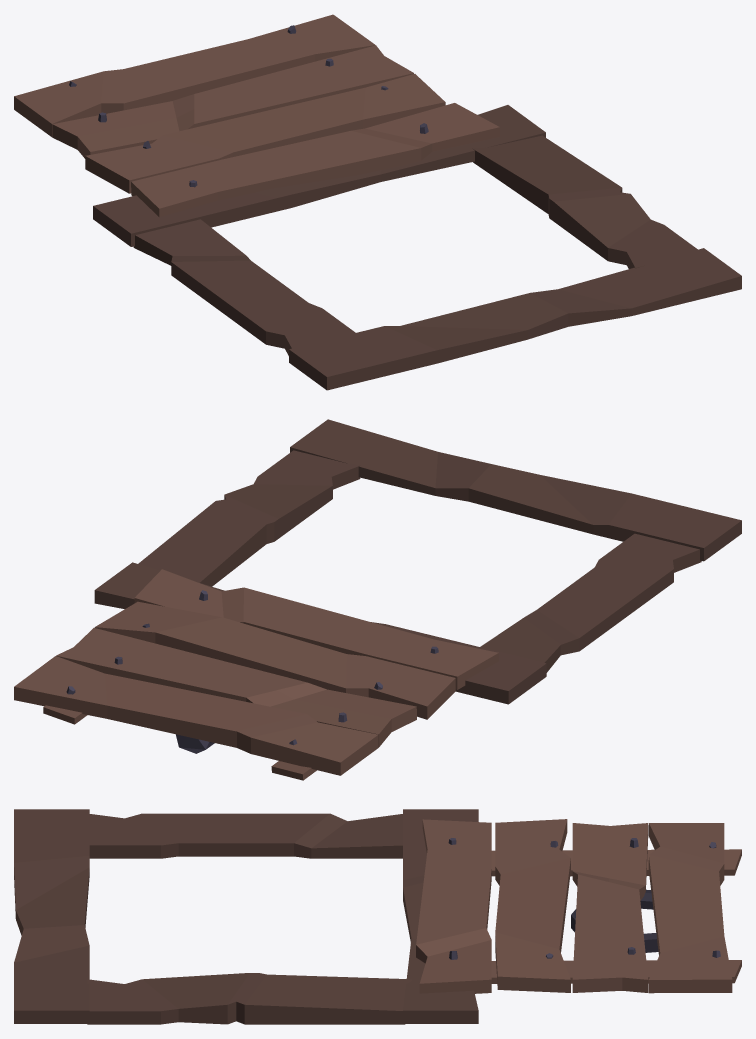
The model's file is Trapdoor_open.glb.
3 views of the same model, one above another, from view 1: azimuth 30°, elevation 25°; view 2: azimuth 150°, elevation 25°; view 3: azimuth 270°, elevation 25° (orthographic).
Parts seen in each view (by area): view 1: Trapdoor_open; view 2: Trapdoor_open; view 3: Trapdoor_open.
Boxes of the visible parts, x1,y1,x2,y2 form: Trapdoor_open: (14,14,741,390); Trapdoor_open: (14,419,741,780); Trapdoor_open: (14,809,741,1024).
Bounding box in the file's own units: 1.74 × 0.2038 × 2.66.
